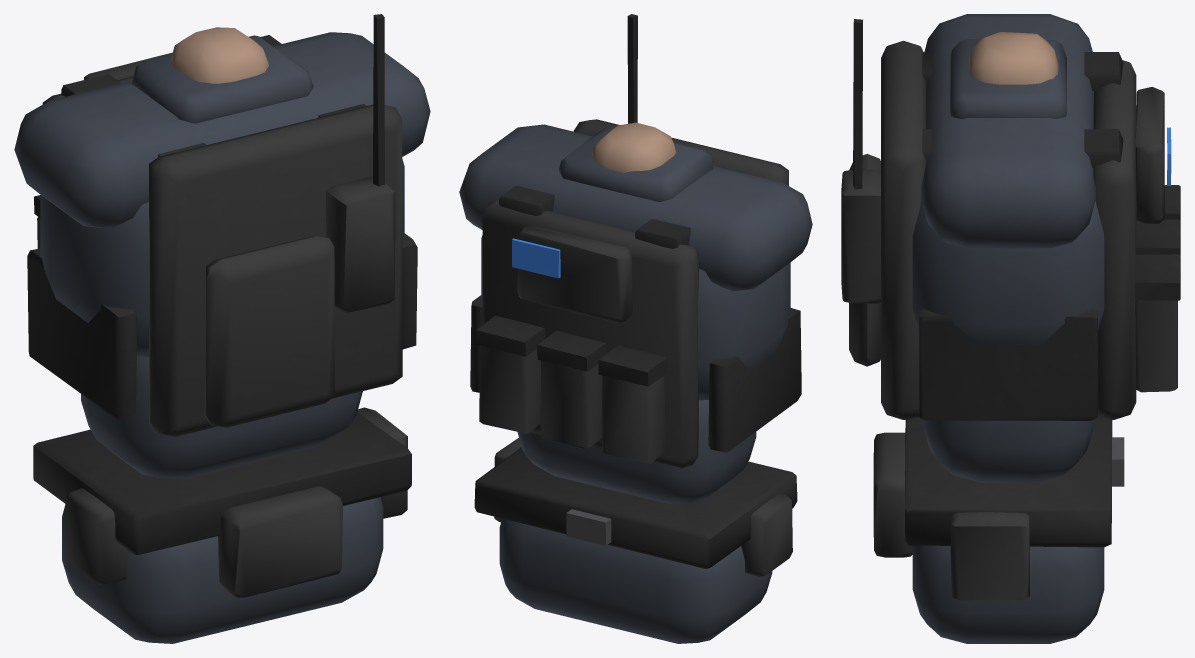
Rendered from SM_OperatorBTorso_LOD1.fbx.
3 renders of one model, left to right at view 1: azimuth 30°, elevation 25°; view 2: azimuth 150°, elevation 25°; view 3: azimuth 270°, elevation 25°, orthographic. The views are drawn at different scales.
Parts seen in each view (by area): view 1: SM_OperatorBTorso_LOD1; view 2: SM_OperatorBTorso_LOD1; view 3: SM_OperatorBTorso_LOD1.
Boxes of the visible parts, x1,y1,x2,y2 form: SM_OperatorBTorso_LOD1: (14, 14, 430, 643); SM_OperatorBTorso_LOD1: (459, 14, 812, 643); SM_OperatorBTorso_LOD1: (841, 14, 1180, 643).
Bounding box in the file's own units: 0.4515 × 0.745 × 0.3722.
Materials: 1 (1 with a texture image).
